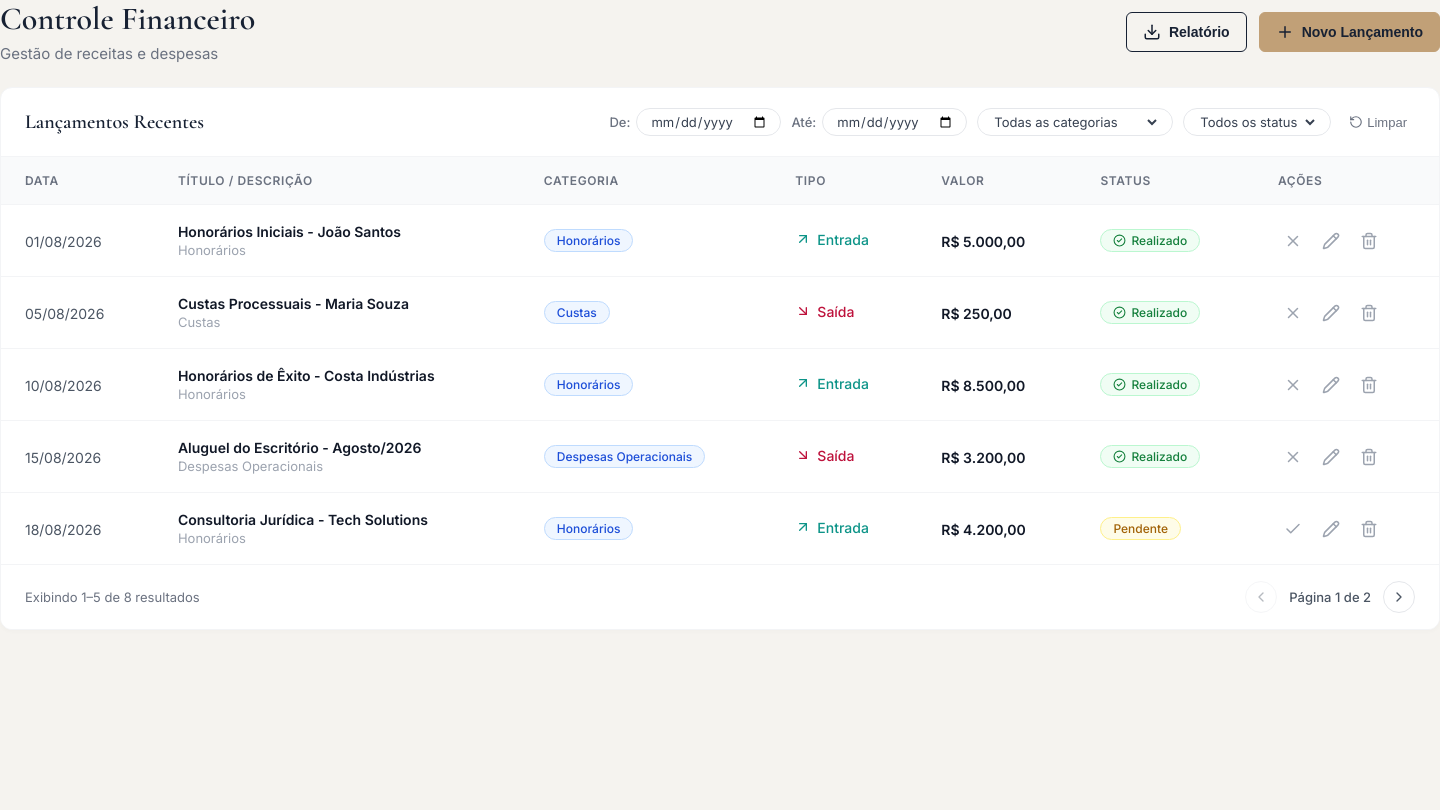
it: FinancasClient › abre o modal ao clicar em Editar e permite atualizar o lançamento
This screenshot has width=1440, height=810.
Click the button named "Editar lançamento" in the row of "01/08/2026": {"x": 1331, "y": 241} [1316, 226, 1346, 256]
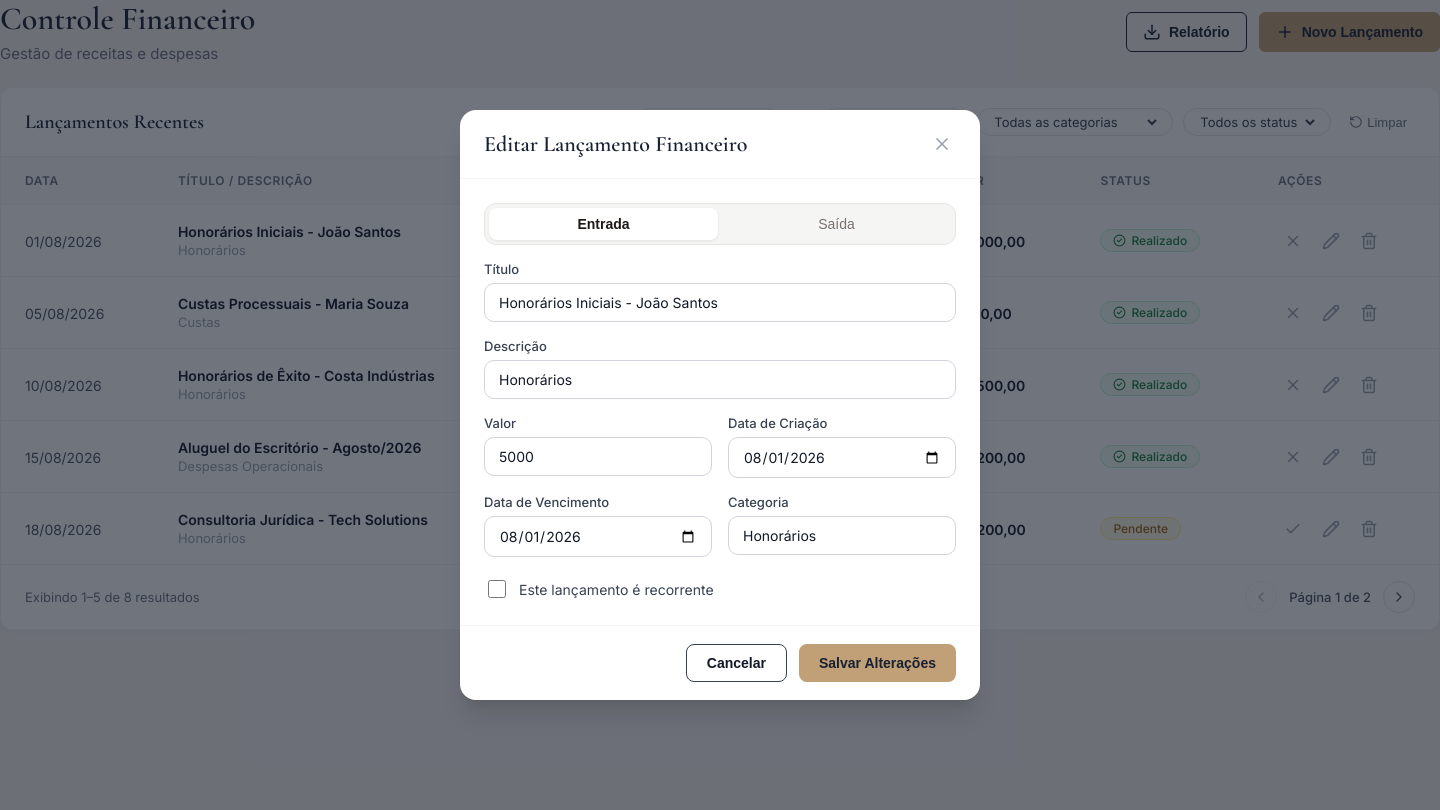
Expected: the heading "Editar Lançamento Financeiro" is shown, [484, 131, 747, 157]
Expected: the field labelled "Título" holds "Honorários Iniciais - João Santos"
Replace the text in the field labelled "Título" with "Honorários Iniciais - João Silva": {"x": 720, "y": 302} [484, 283, 956, 322]
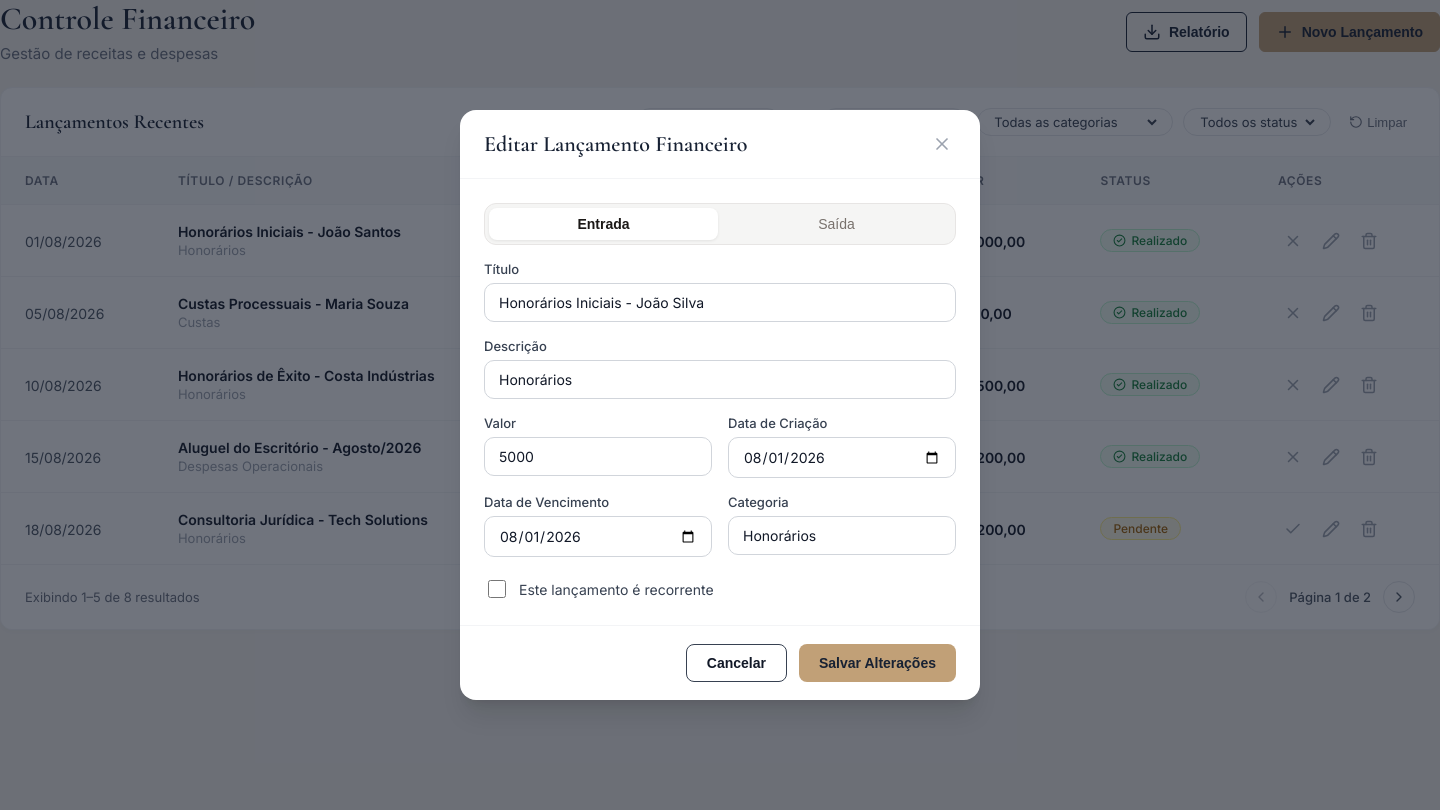
Submit the form from the button "Salvar Alterações", box [799, 644, 956, 682]
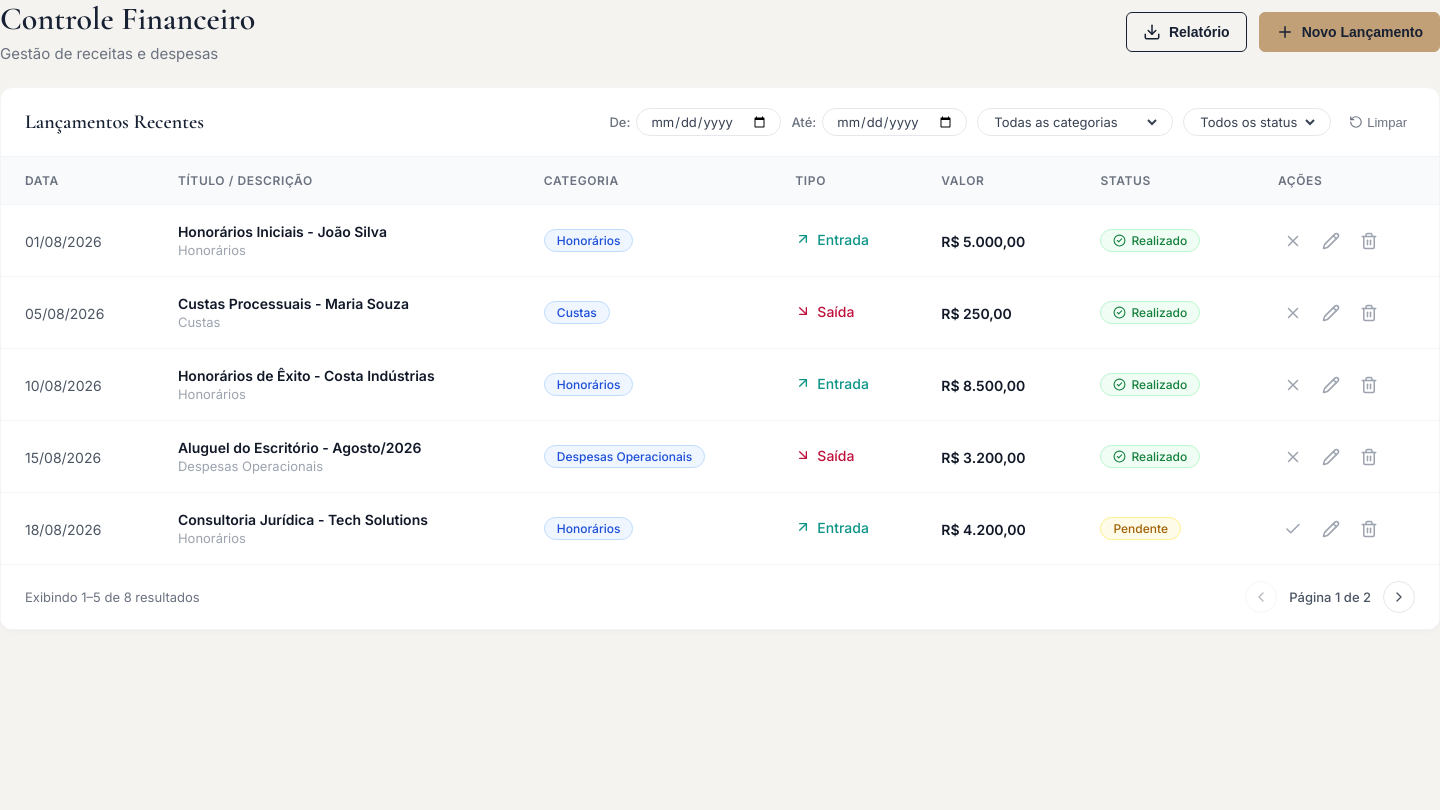
Expected: the text "Honorários Iniciais - João Silva" is shown, [178, 223, 387, 240]
